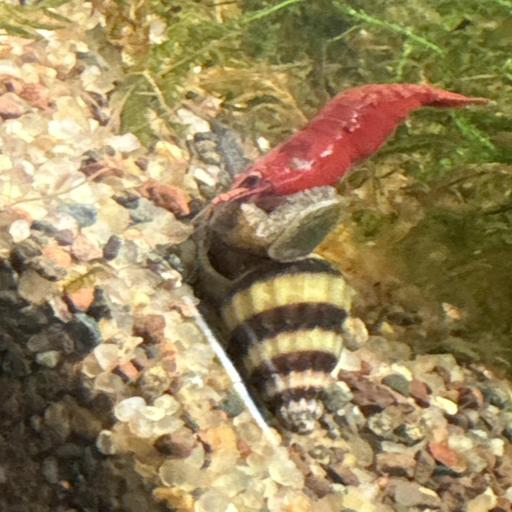Shrimp: (195, 82, 503, 209)
Snail: (184, 181, 368, 440)
